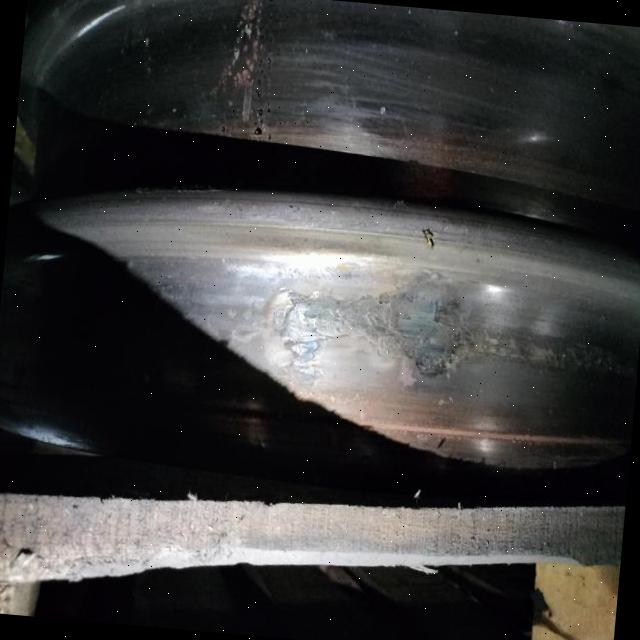Rollerpile: (273, 278, 596, 396)
